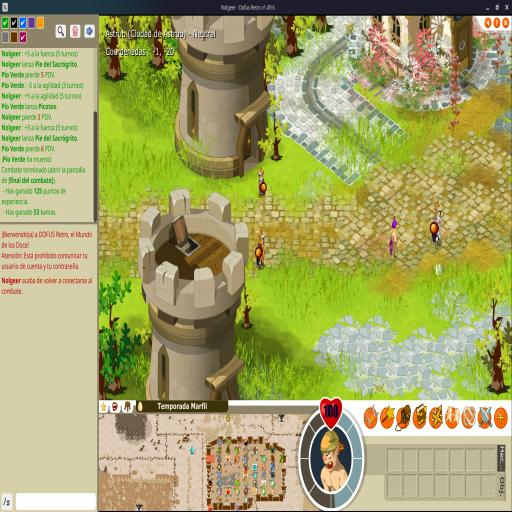Personaje: (386, 214, 400, 262)
